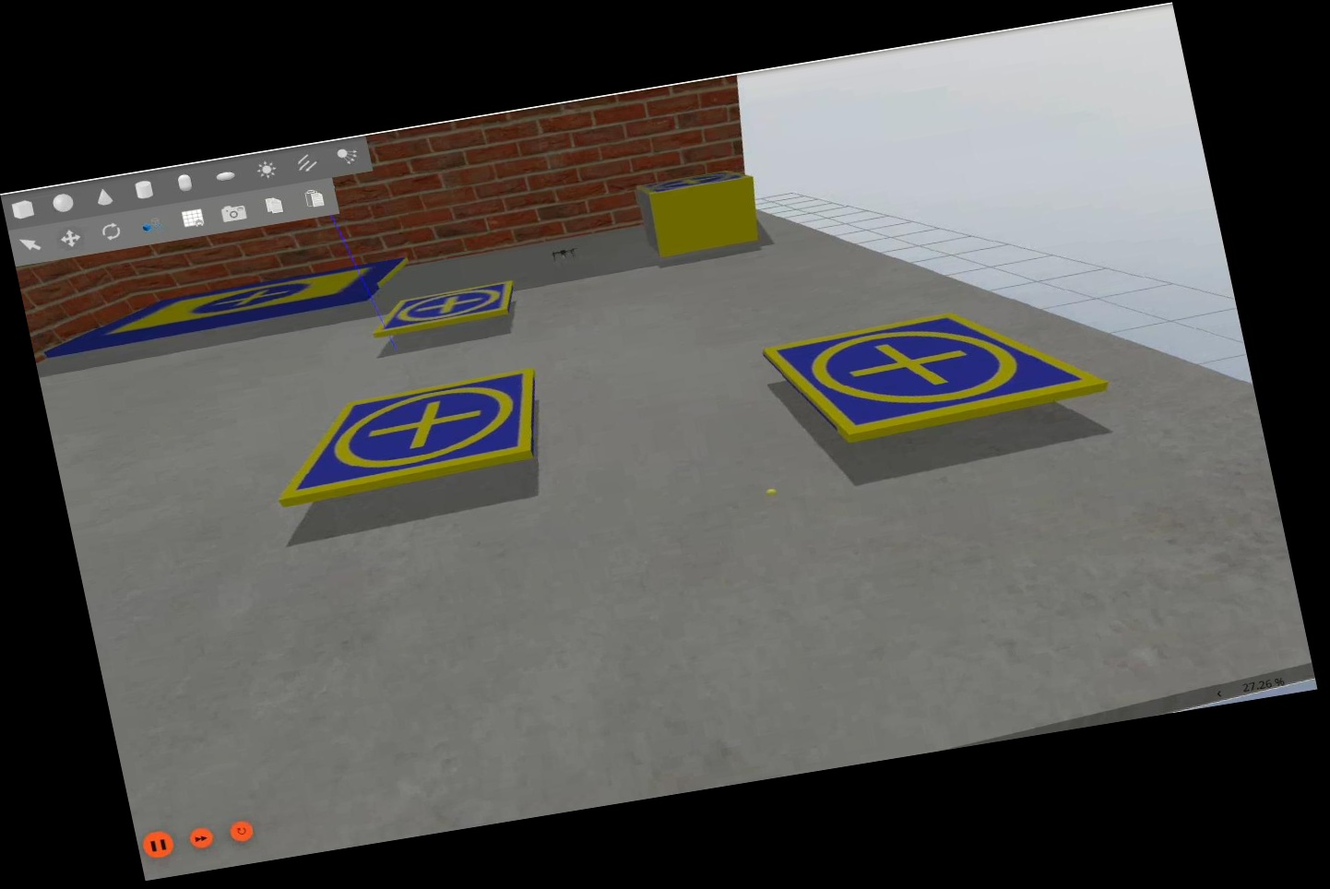large_base: (41, 259, 418, 357)
small_base: (758, 287, 1114, 458), (262, 367, 559, 503), (368, 277, 524, 342), (632, 160, 757, 203)
